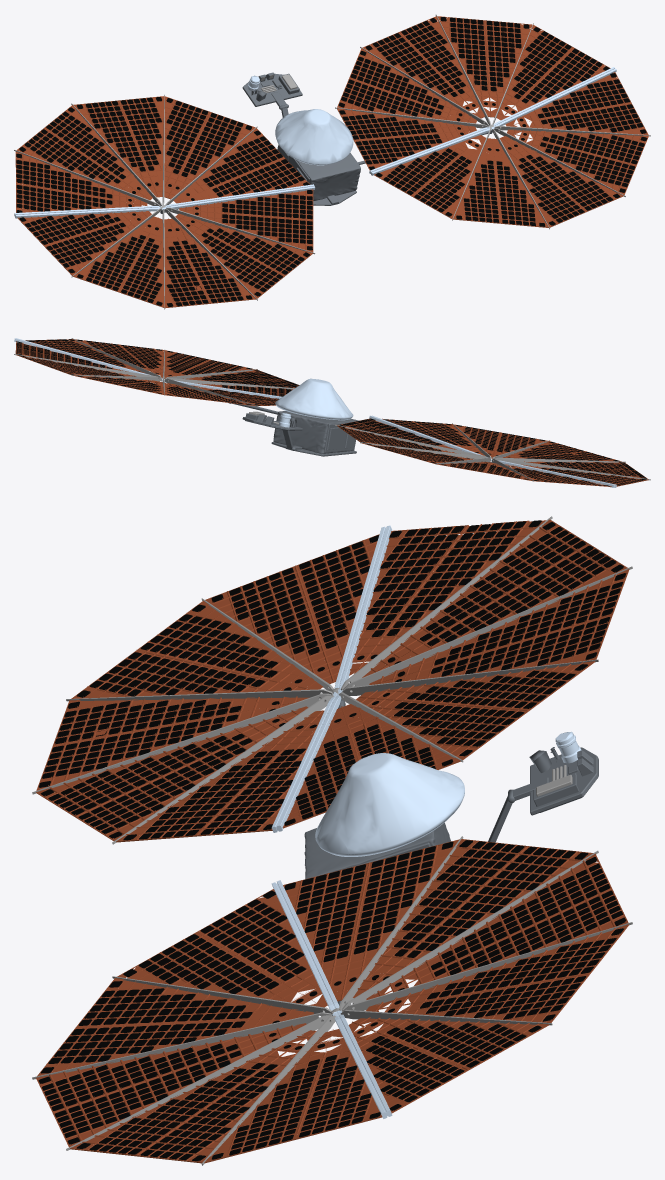
File: lucy.glb
3 views of the same model, one above another, from view 1: azimuth 30°, elevation 25°; view 2: azimuth 150°, elevation 25°; view 3: azimuth 270°, elevation 25° (orthographic). The views are drawn at different scales.
Visible parts, largest first — view 1: dish orange_6, foil head_5, body.001_9, instruments_1; view 2: dish orange_6, foil head_5, body.001_9, body_7, instruments_1, probe support and arm_0; view 3: dish orange_6, foil head_5, instruments_1, body.001_9.
Part boxes in pixels (x1=…): dish orange_6: x1=14, y1=14, x2=650, y2=309; foil head_5: x1=275, y1=109, x2=353, y2=165; body.001_9: x1=277, y1=147, x2=360, y2=200; instruments_1: x1=242, y1=72, x2=302, y2=106; dish orange_6: x1=14, y1=338, x2=650, y2=487; foil head_5: x1=275, y1=378, x2=353, y2=420; body.001_9: x1=273, y1=411, x2=358, y2=453; body_7: x1=273, y1=416, x2=355, y2=452; instruments_1: x1=242, y1=411, x2=302, y2=430; probe support and arm_0: x1=271, y1=420, x2=356, y2=456; dish orange_6: x1=32, y1=516, x2=632, y2=1165; foil head_5: x1=315, y1=753, x2=464, y2=856; instruments_1: x1=513, y1=731, x2=598, y2=815; body.001_9: x1=304, y1=822, x2=451, y2=879.
Size of the model in its own units: 8.88 by 1.36 by 3.85.
